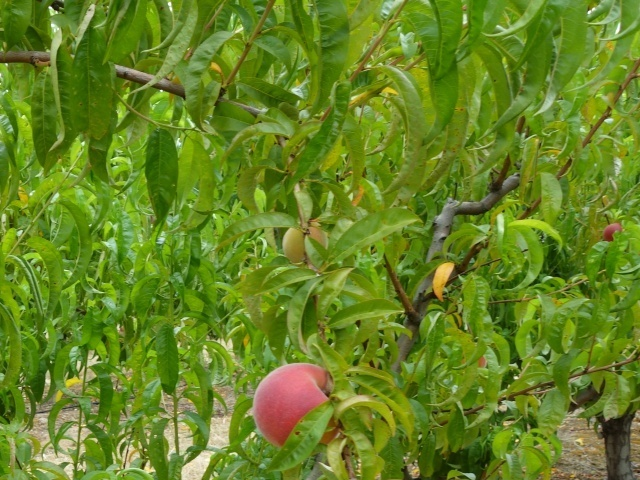peach: (246, 361, 345, 455), (278, 219, 328, 270), (598, 219, 624, 246)
